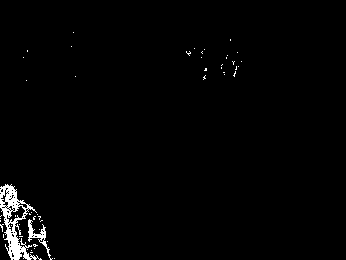person: (1, 184, 60, 260)
